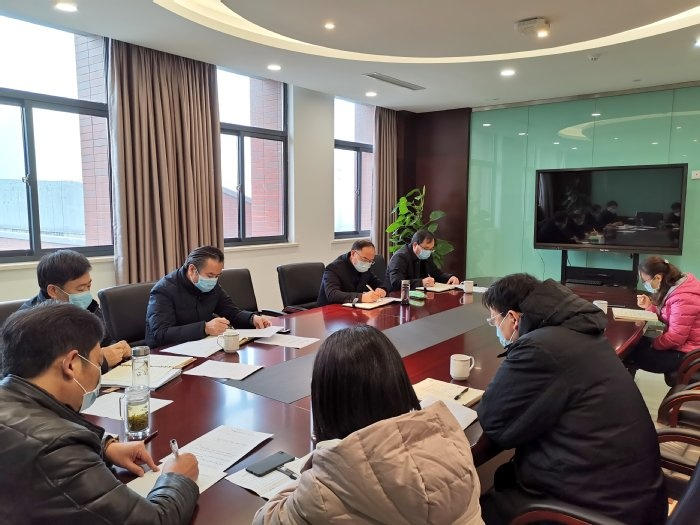correctlyWear: (60, 335, 104, 414), (45, 272, 95, 314), (486, 296, 522, 346), (187, 260, 224, 293), (638, 267, 665, 294), (350, 248, 377, 272), (410, 238, 437, 260)
